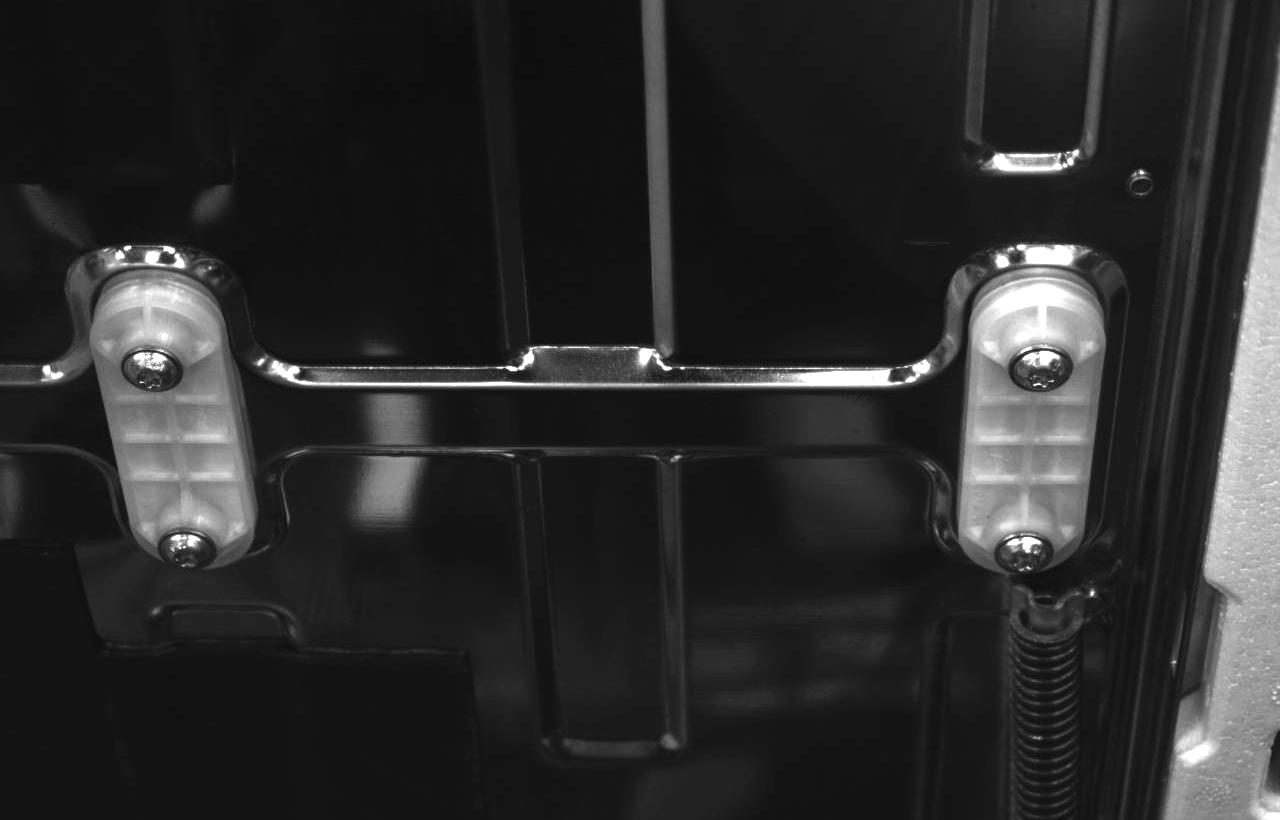vida-ok: (116, 337, 187, 404), (1006, 334, 1073, 401), (993, 522, 1059, 581), (156, 521, 221, 579)
